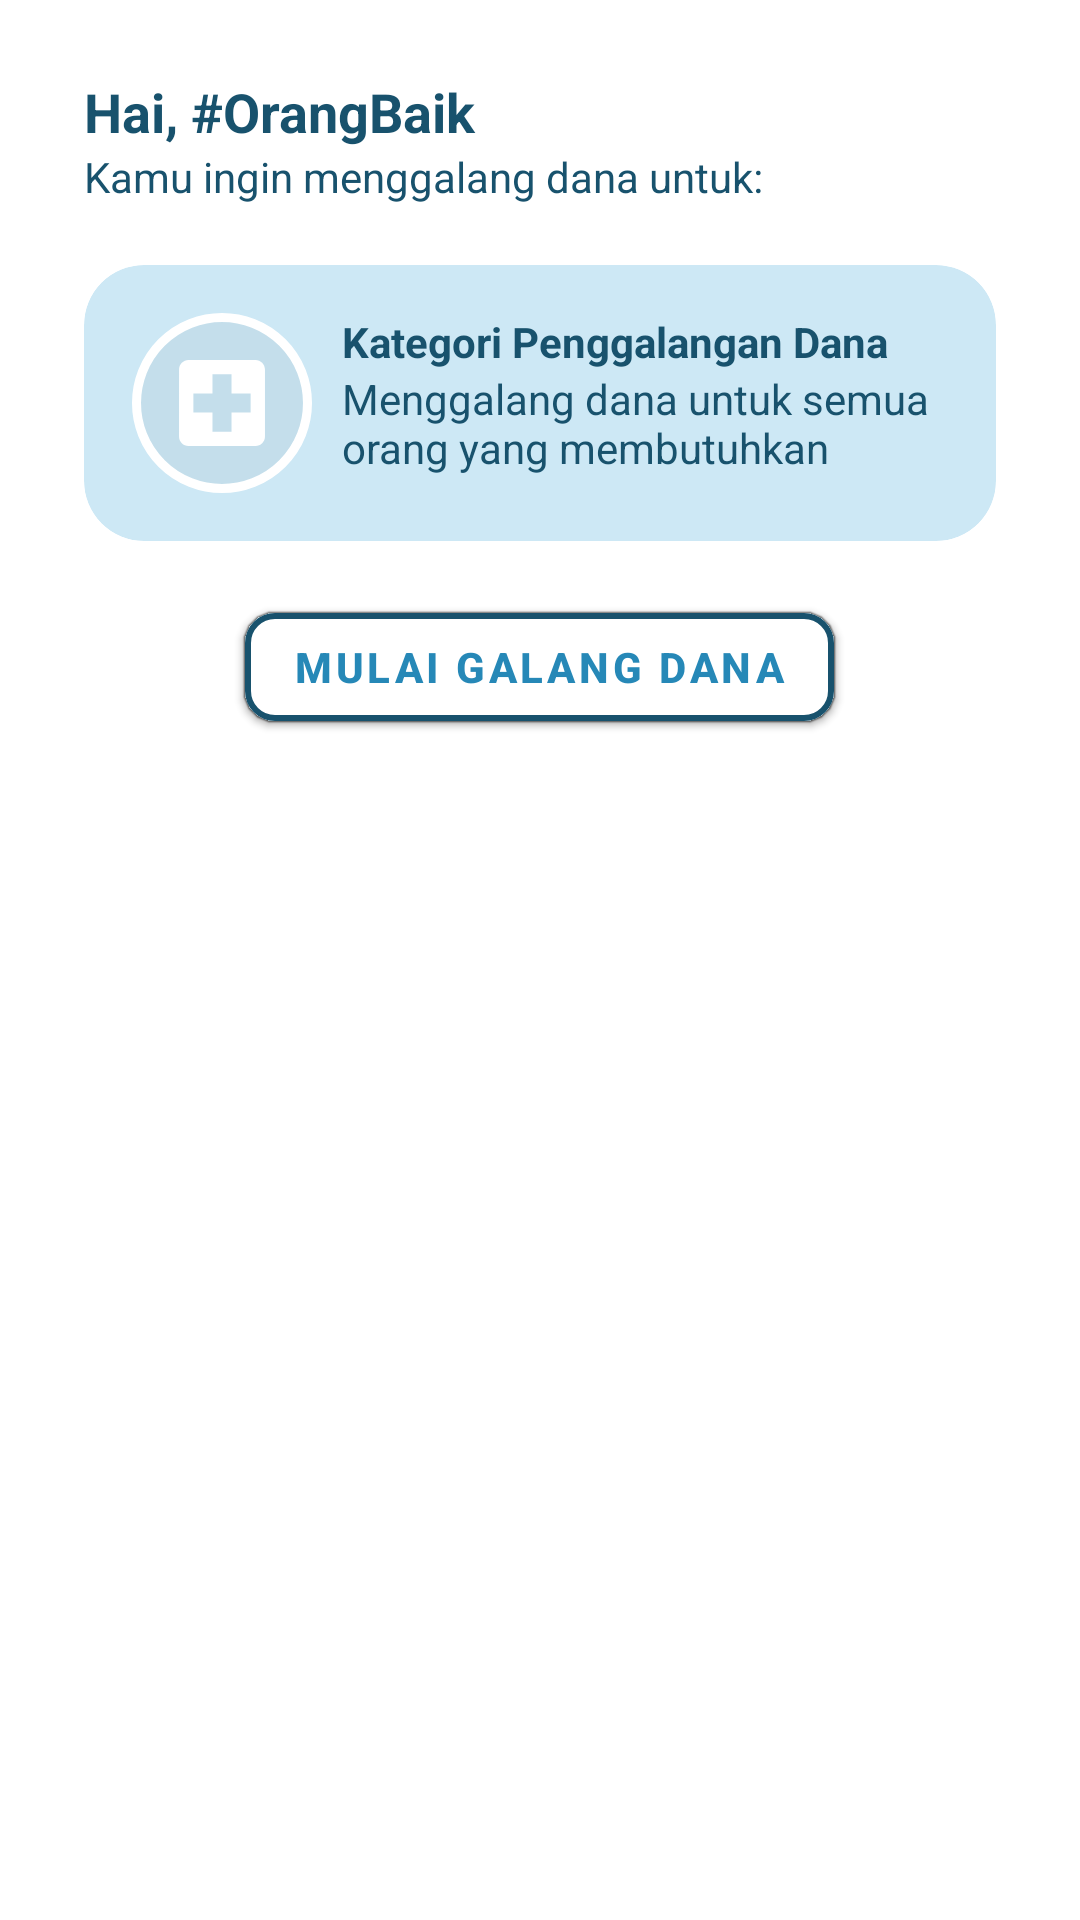

Icons on this 1080×1920 Android screen, each with the point to tap as point (x, y):
healthcare donation: point (222, 403)
